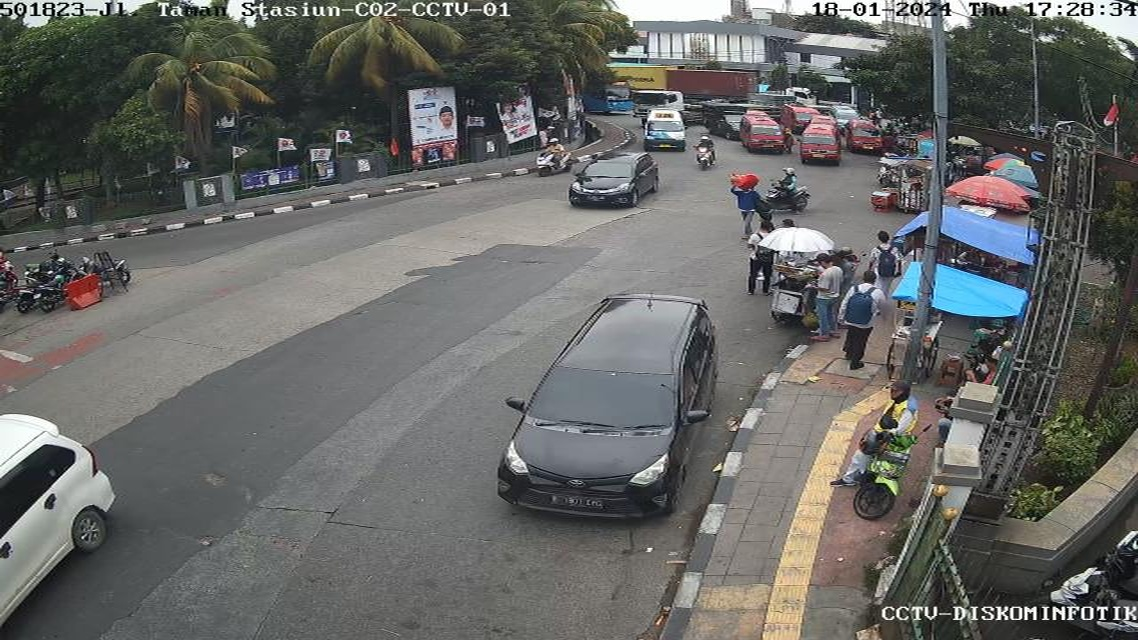Gerobak: (766, 252, 836, 320), (896, 303, 941, 375), (896, 152, 941, 213)
